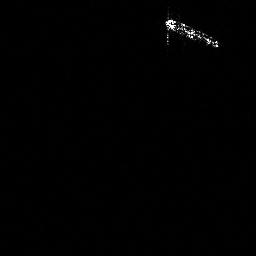ship: (162, 15, 224, 50)
